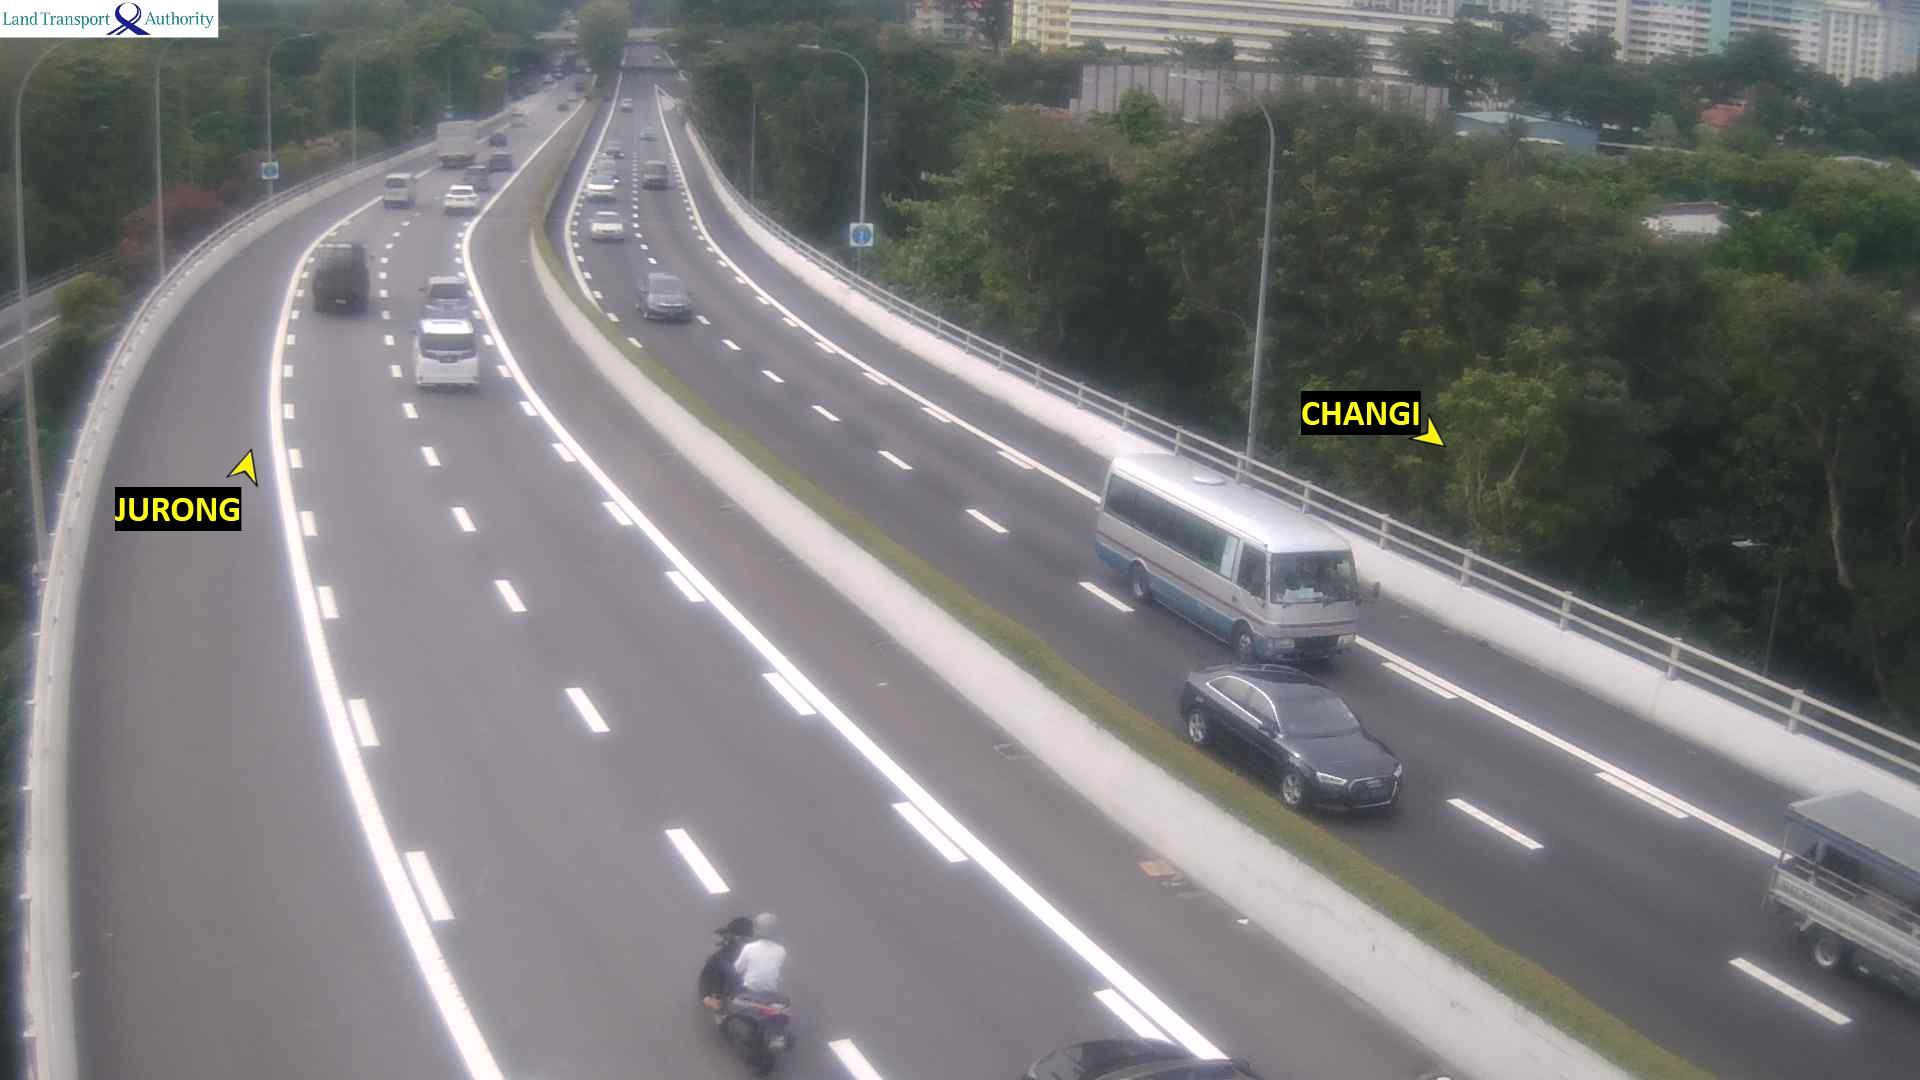incoming: (1249, 683, 1406, 816), (1244, 546, 1386, 661), (638, 276, 699, 328), (589, 211, 626, 241), (640, 161, 671, 191), (587, 177, 617, 203), (603, 142, 622, 158)
